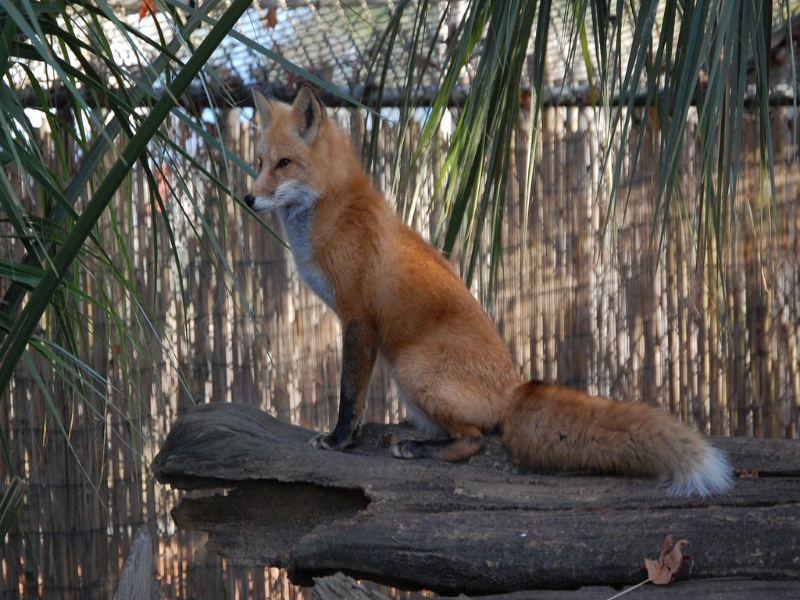fox: (246, 83, 732, 498)
